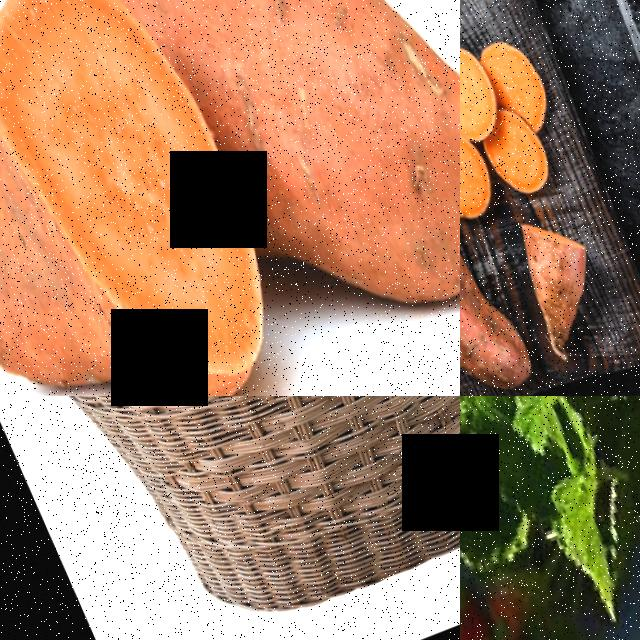sweet potato: (105, 0, 460, 360), (0, 0, 314, 396), (499, 206, 618, 360), (460, 168, 507, 396), (476, 115, 558, 204), (472, 26, 548, 112), (460, 28, 506, 142), (460, 120, 502, 228)
